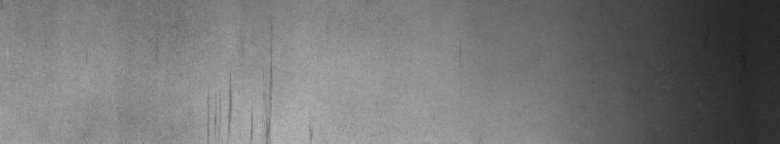ka: (208, 64, 313, 136)
